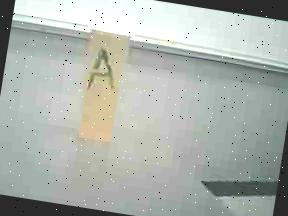Bottle A: (63, 10, 142, 160)
